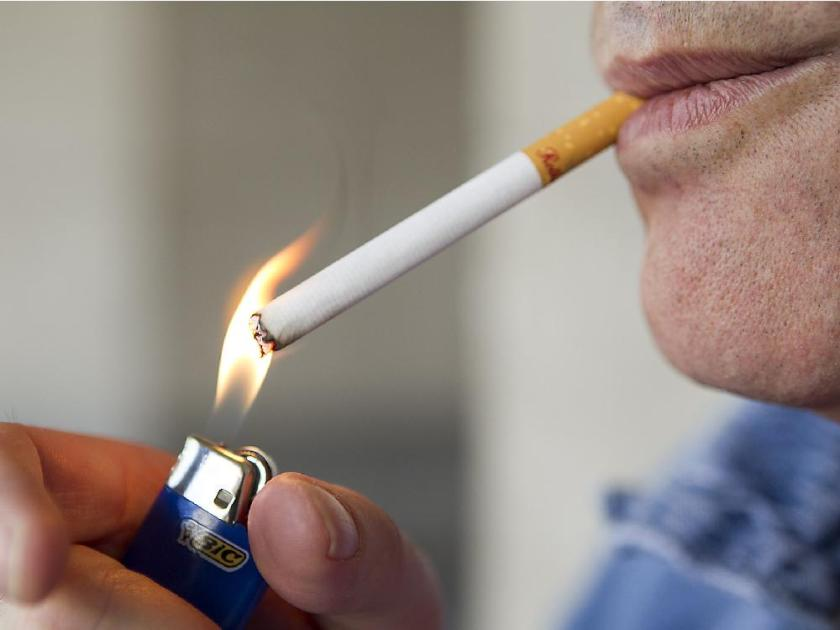cigarette: (235, 82, 654, 376)
